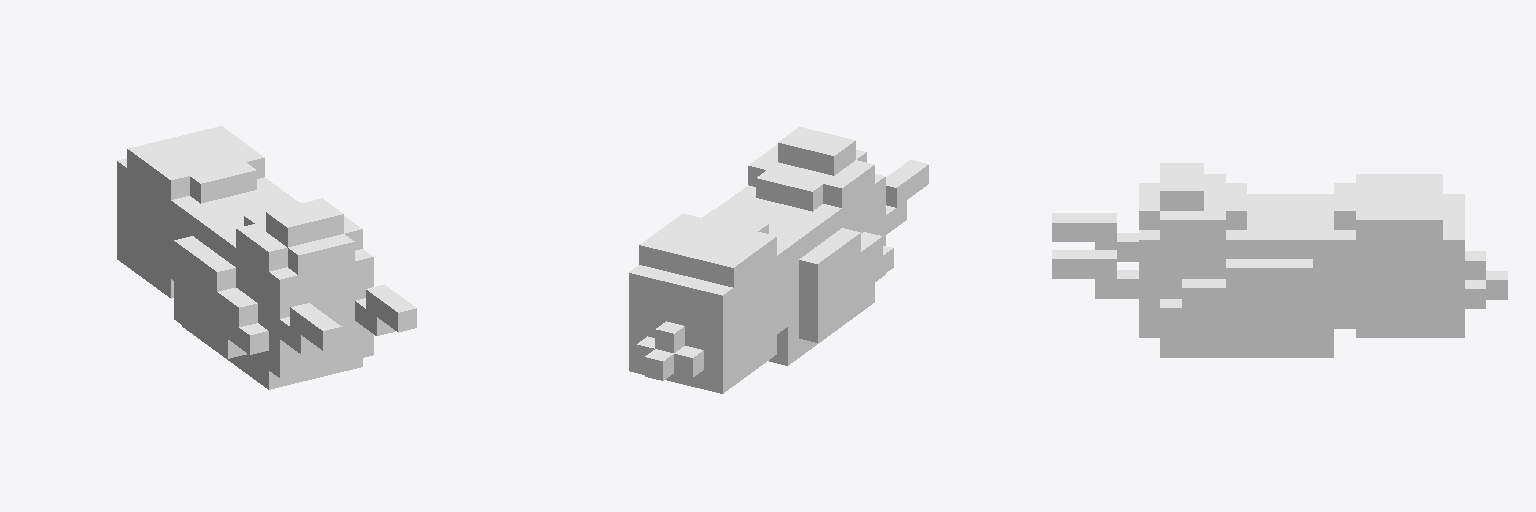
Rendered from penguin_v2_skies.obj.
3 views of the same model, side by side, from view 1: azimuth 30°, elevation 25°; view 2: azimuth 150°, elevation 25°; view 3: azimuth 270°, elevation 25° (orthographic).
Parts seen in each view (by area): view 1: object 1; view 2: object 1; view 3: object 1.
Boxes of the visible parts, box(x1,y1,x2,y2) form: object 1: box(117, 126, 416, 389); object 1: box(629, 127, 928, 393); object 1: box(1052, 163, 1507, 357).
Bounding box in the file's own units: 0.7 × 0.8 × 2.1.